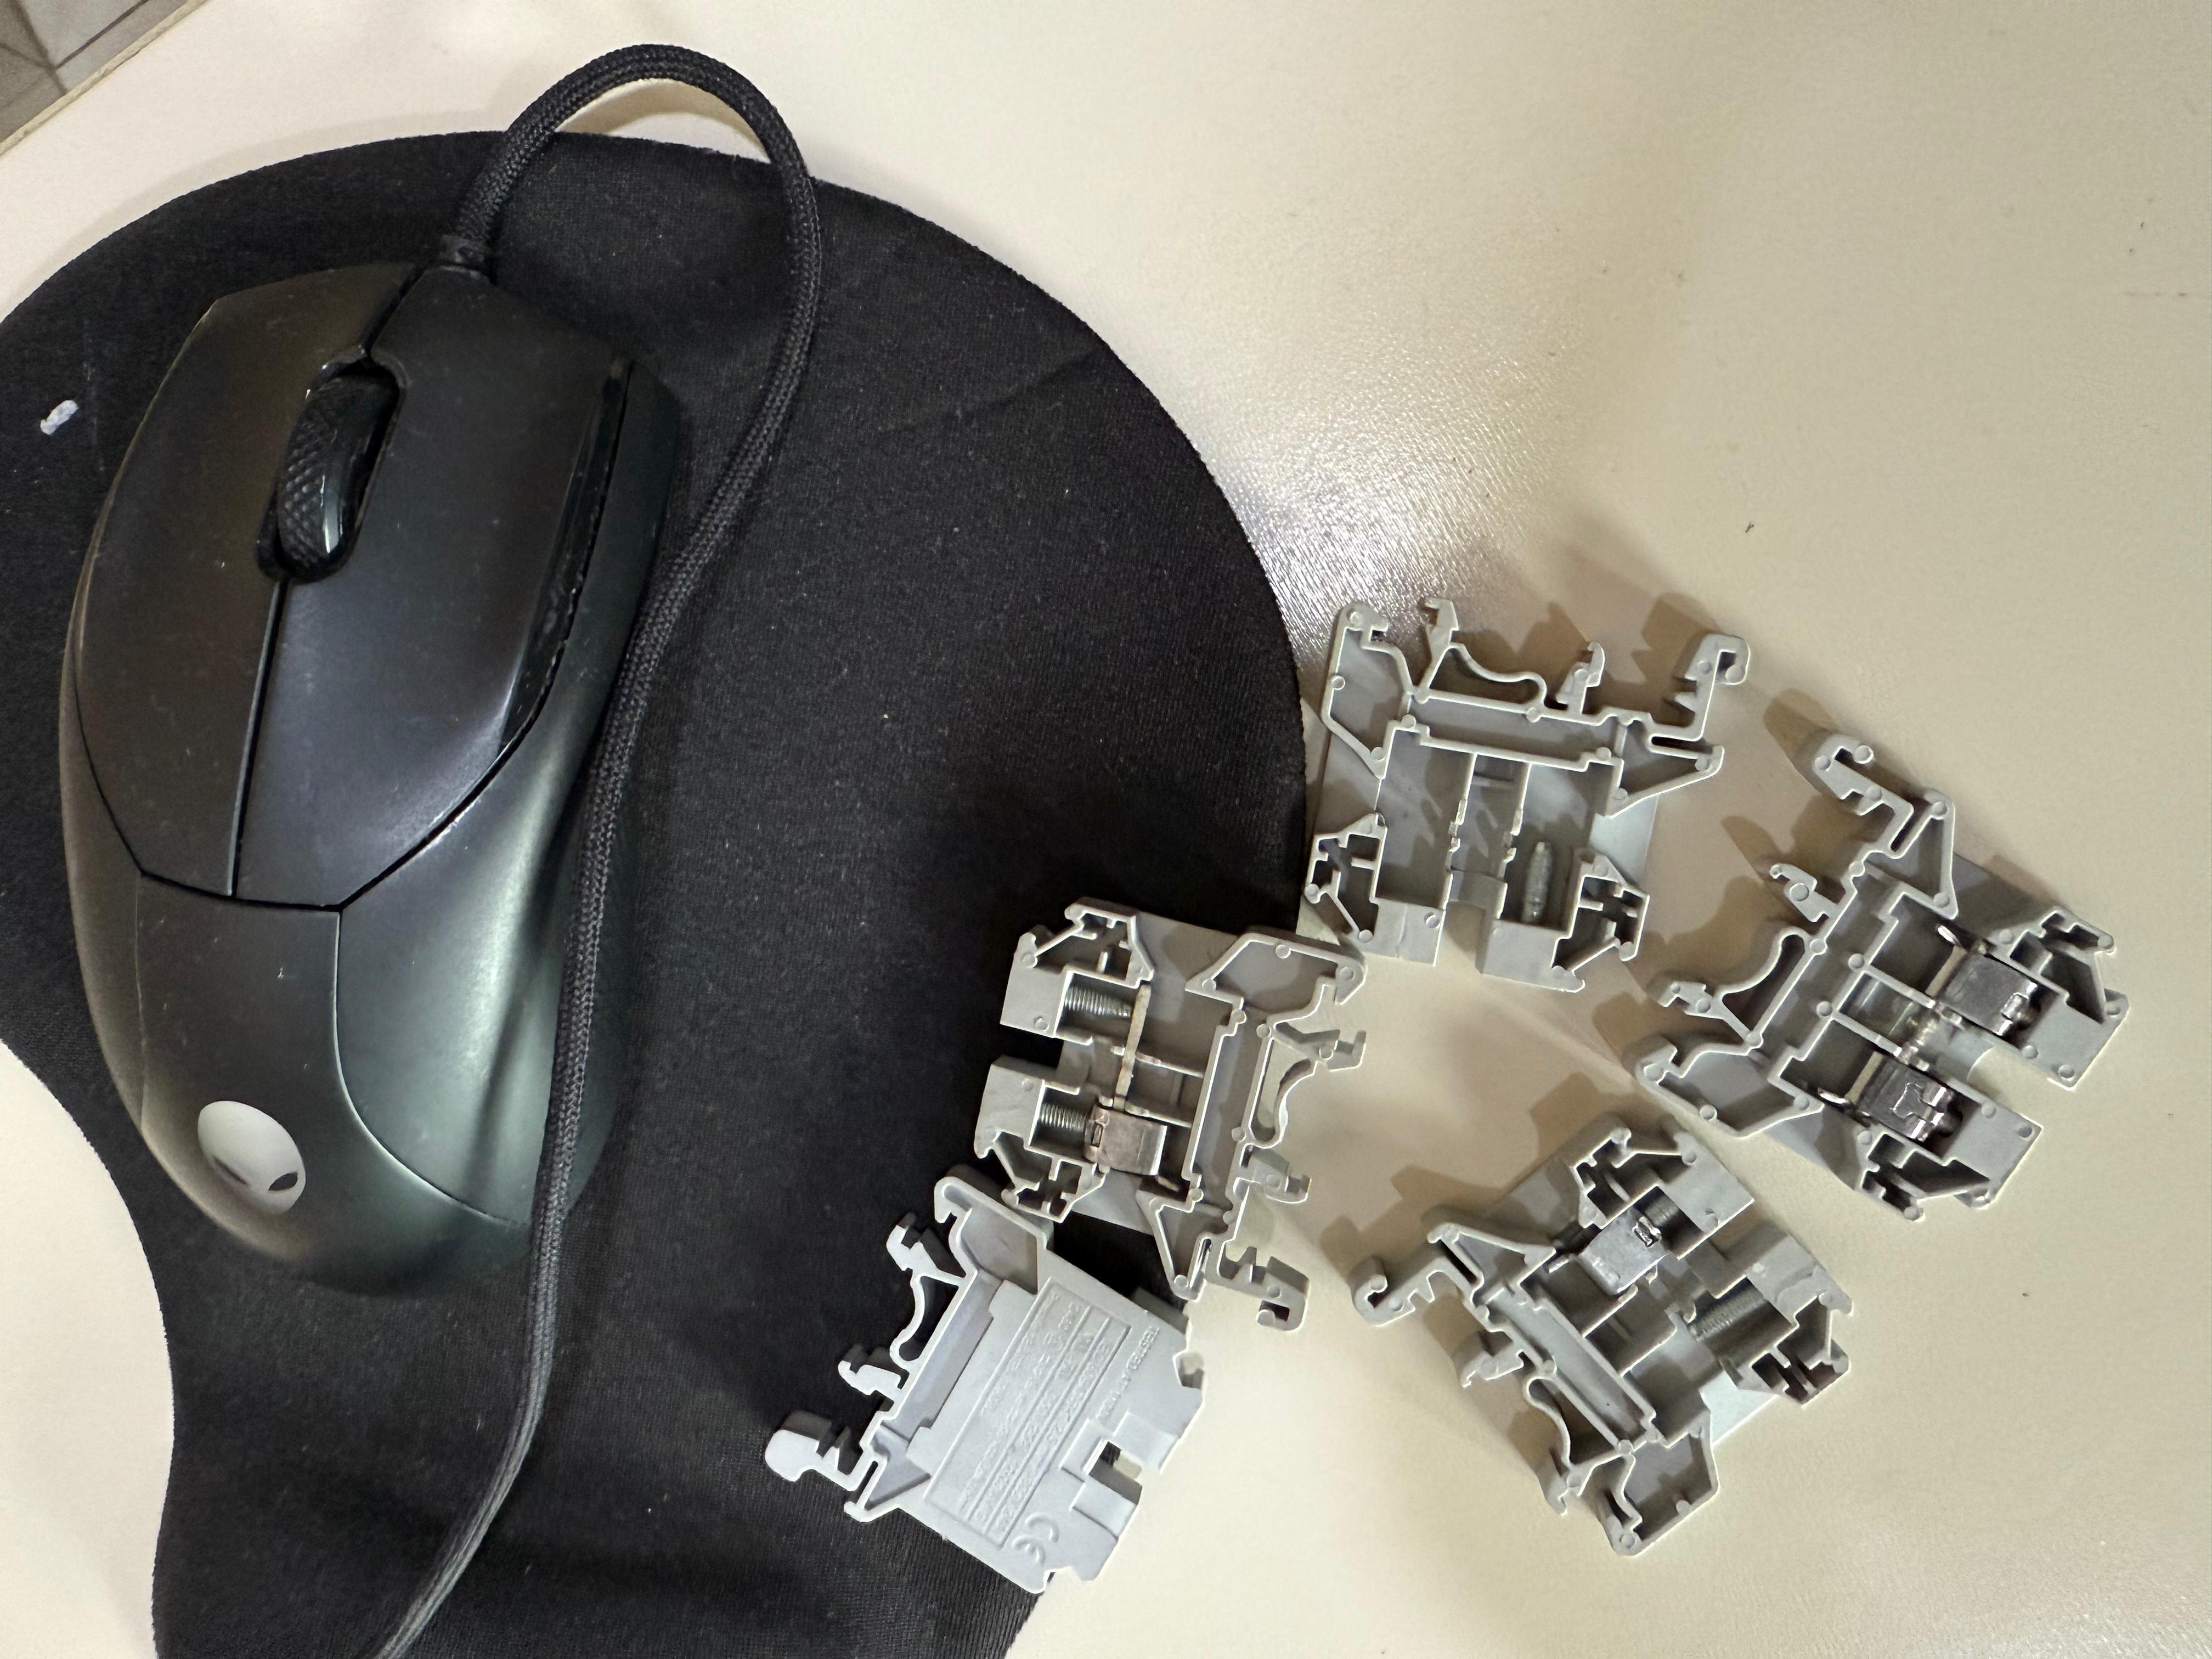Inverted: (754, 1161, 1247, 1638)
Pass: (1646, 702, 2148, 1211)
Reject: (1341, 1098, 1878, 1541), (949, 889, 1364, 1354), (1306, 568, 1749, 995)
